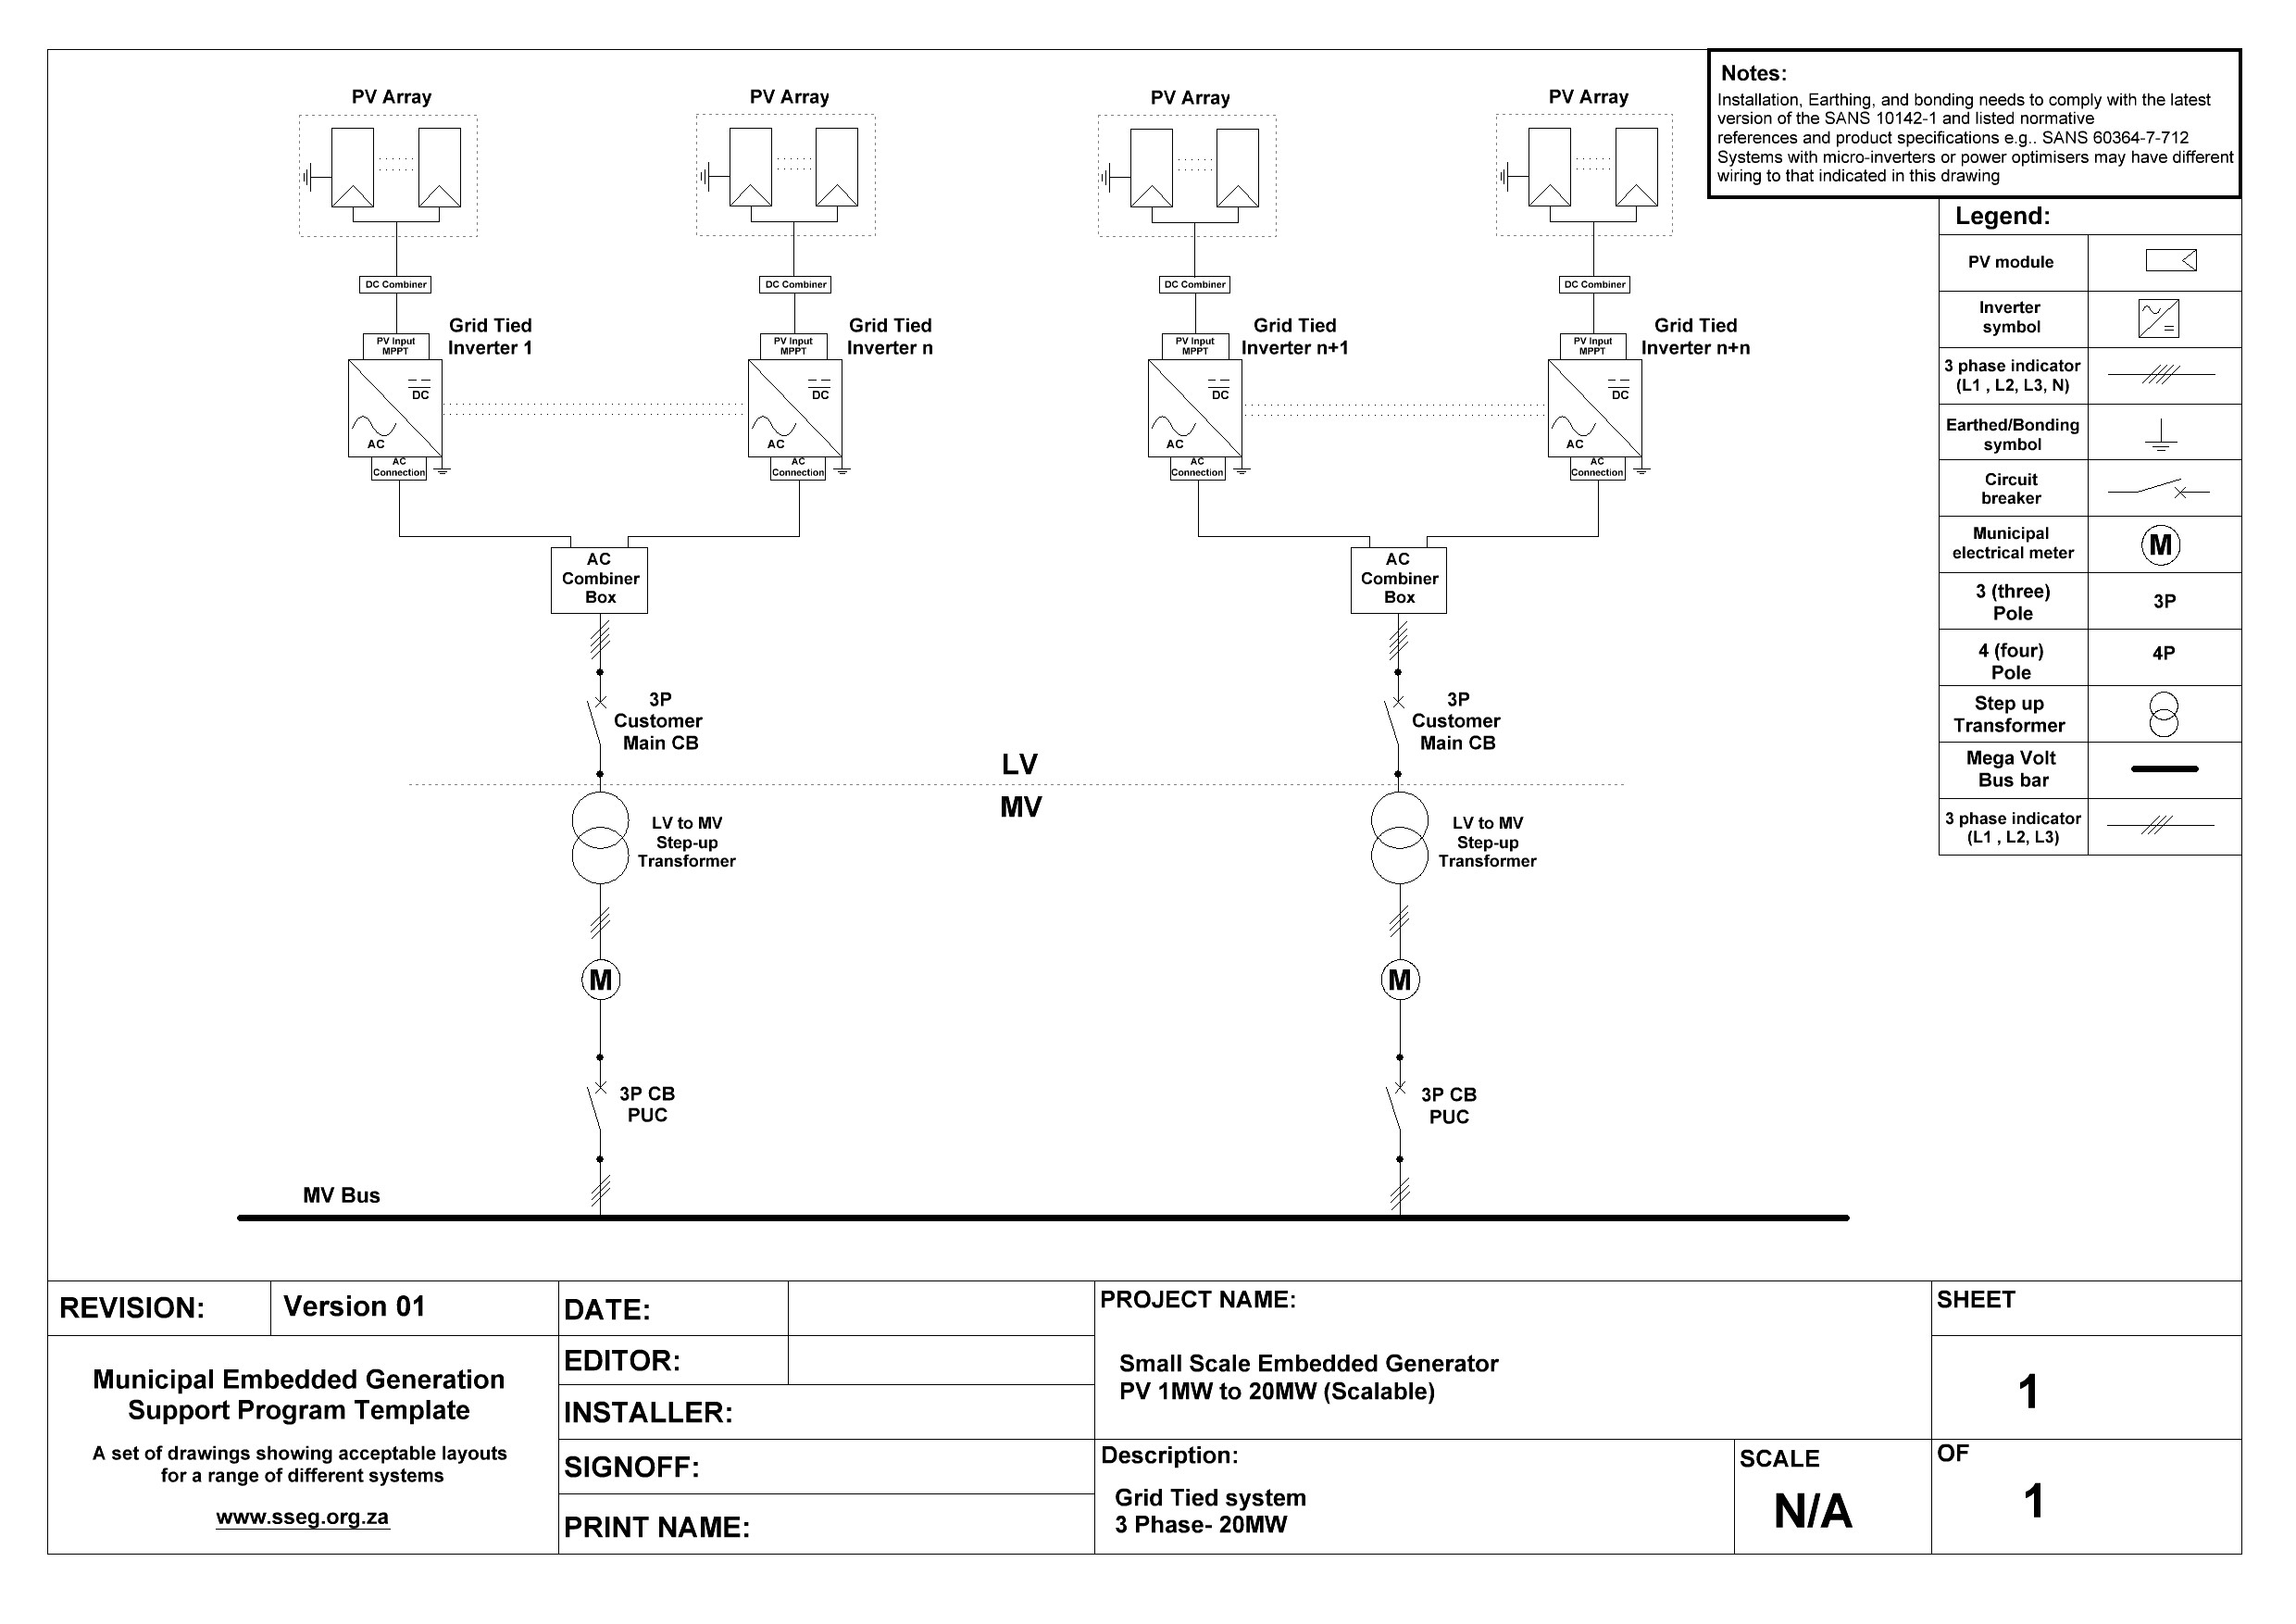ground: (1082, 143, 1126, 208), (284, 141, 326, 206), (677, 145, 721, 203), (1479, 144, 1521, 205), (430, 456, 462, 488), (1225, 462, 1265, 484), (1629, 462, 1656, 481), (827, 466, 864, 480)
switch: (1363, 686, 1416, 774), (1359, 1069, 1421, 1143), (555, 678, 618, 748), (563, 1069, 618, 1139)
